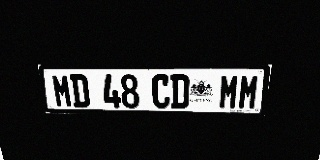4: (101, 74, 121, 108)
8: (120, 74, 139, 108)
C: (151, 74, 170, 108)
D: (69, 74, 91, 108), (171, 75, 189, 109)
M: (237, 75, 260, 109), (218, 75, 240, 109), (51, 74, 73, 107)
